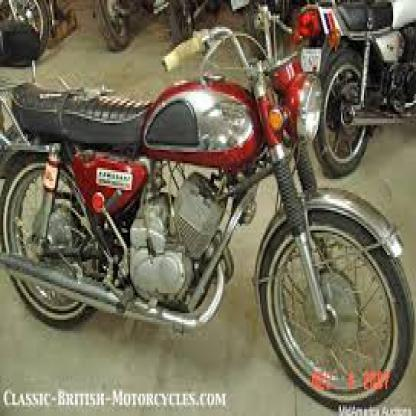Motorcycle: (1, 13, 413, 408)
